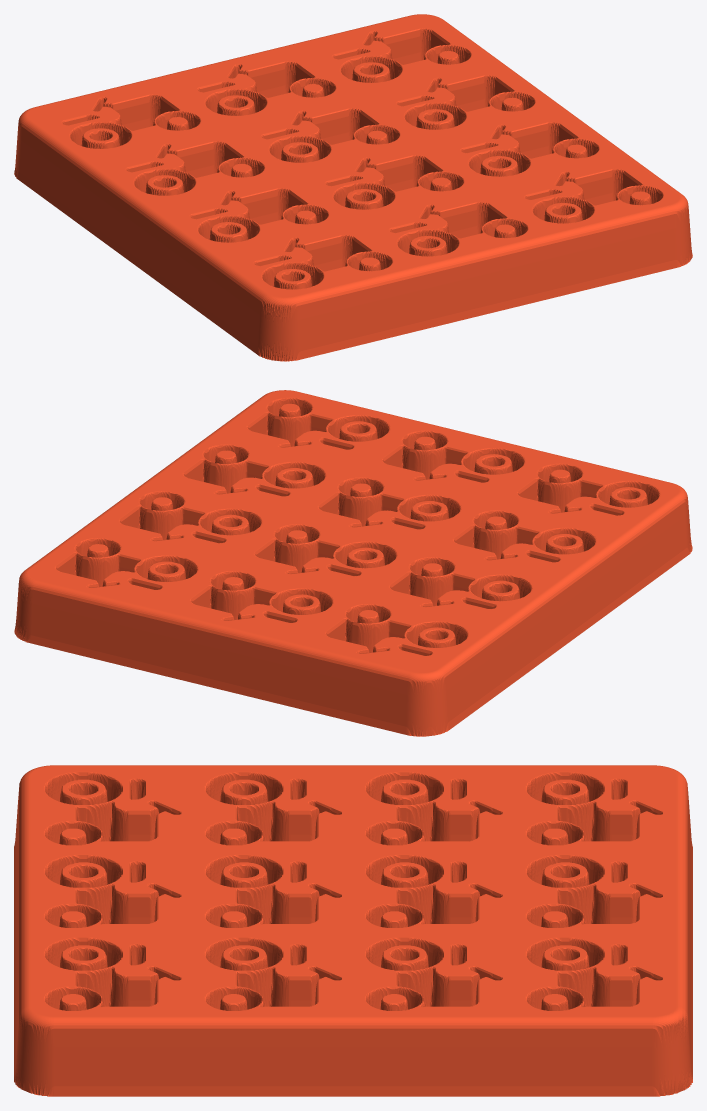
Rendered from mold.glb.
3 renders of one model, top to bottom at view 1: azimuth 30°, elevation 25°; view 2: azimuth 150°, elevation 25°; view 3: azimuth 270°, elevation 25°, orthographic. The views are drawn at different scales.
Parts seen in each view (by area): view 1: geometry_0; view 2: geometry_0; view 3: geometry_0.
Part boxes in pixels (x1=…): geometry_0: x1=14, y1=14, x2=692, y2=361; geometry_0: x1=14, y1=390, x2=692, y2=736; geometry_0: x1=14, y1=765, x2=692, y2=1096.
Size of the model in its own units: 0.141 by 0.0182 by 0.1532.
